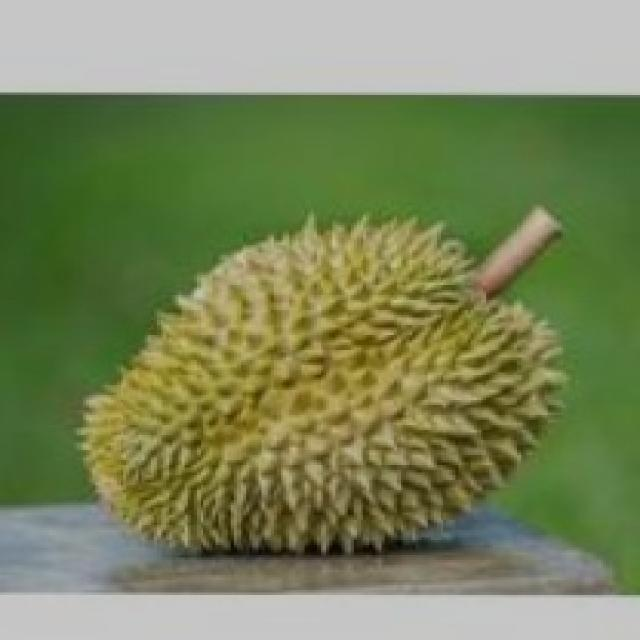fruit: (37, 190, 409, 588), (259, 200, 603, 585)
